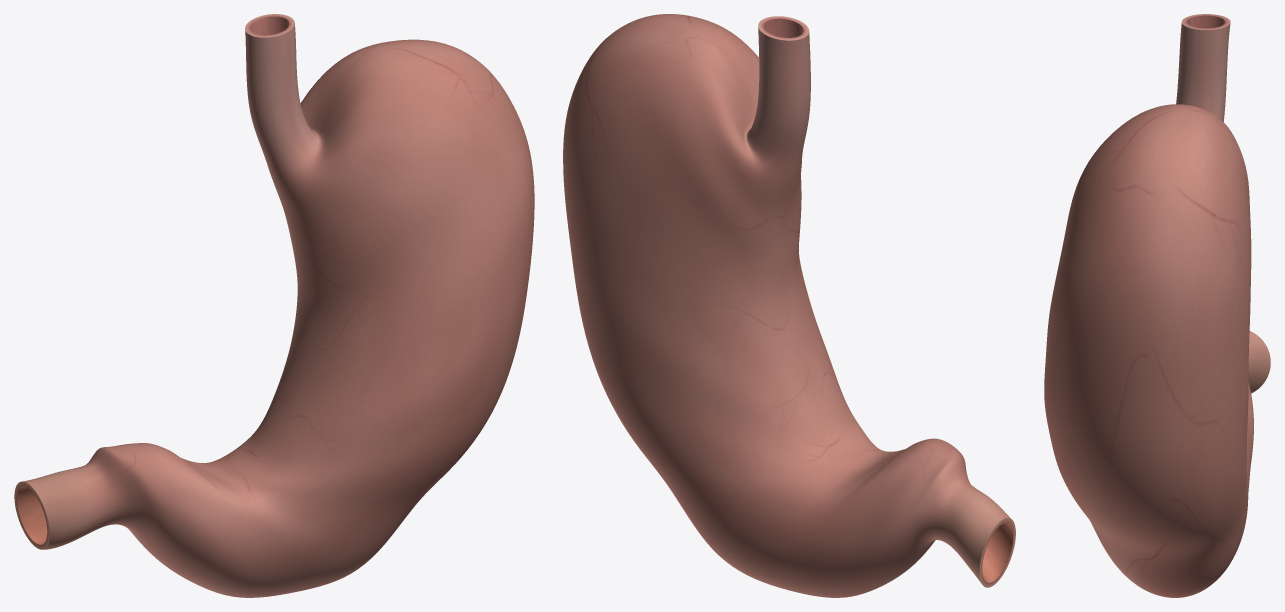
The model's file is whole.glb.
3 views of the same model, side by side, from view 1: azimuth 30°, elevation 25°; view 2: azimuth 150°, elevation 25°; view 3: azimuth 270°, elevation 25° (orthographic). The views are drawn at different scales.
Parts seen in each view (by area): view 1: Stomach; view 2: Stomach; view 3: Stomach.
Part boxes in pixels (box(x1,y1,x2,y2)): Stomach: box(14, 14, 534, 597); Stomach: box(563, 14, 1015, 597); Stomach: box(1044, 14, 1270, 597).
Size of the model in its own units: 0.1801 by 0.2098 by 0.0769.
6 materials, 6 textured.
